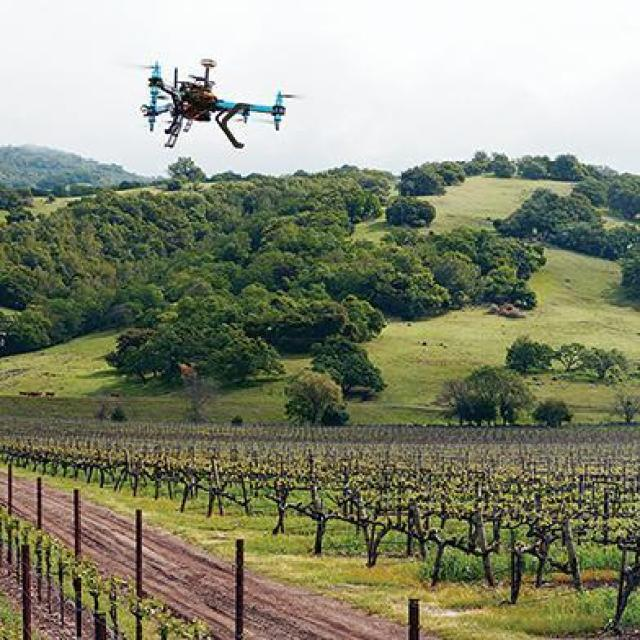drone: (121, 52, 300, 160)
